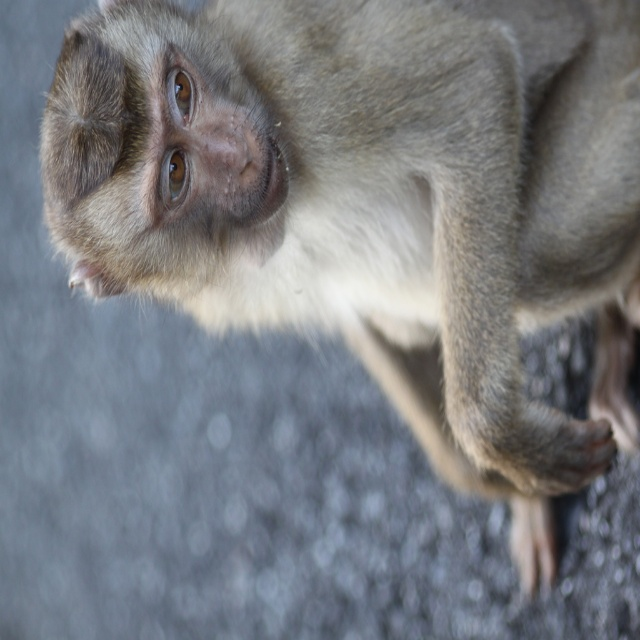Monkey: (49, 0, 616, 626)
